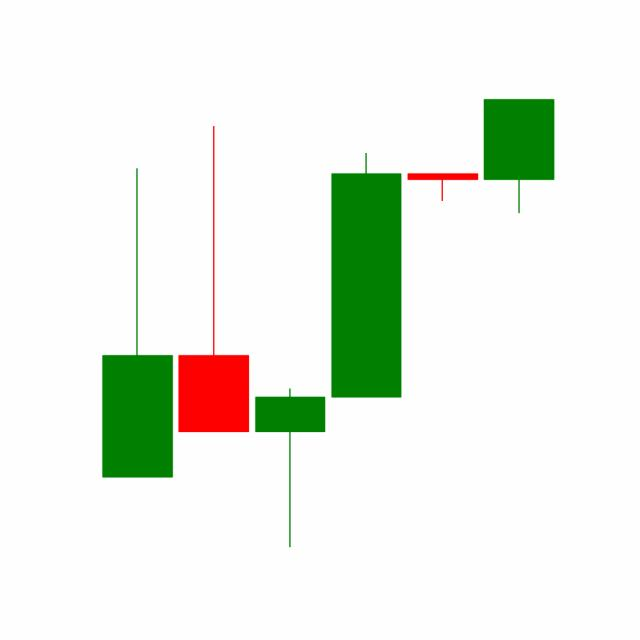Hanging Man: (403, 173, 481, 202)
